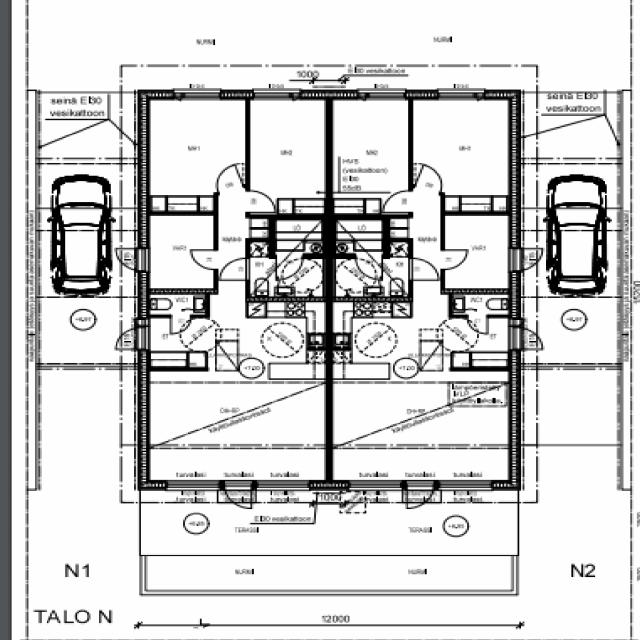door: (209, 163, 244, 194), (415, 164, 450, 195), (224, 480, 252, 513), (510, 328, 550, 351), (510, 249, 550, 271), (408, 480, 434, 512), (112, 328, 149, 350), (112, 249, 149, 271), (409, 259, 441, 281), (219, 258, 250, 280), (383, 191, 414, 212), (356, 254, 382, 279), (278, 254, 303, 279), (245, 192, 275, 212), (442, 250, 471, 270), (190, 250, 218, 270), (468, 314, 489, 336), (172, 314, 190, 334), (510, 320, 533, 328), (129, 320, 149, 328)
